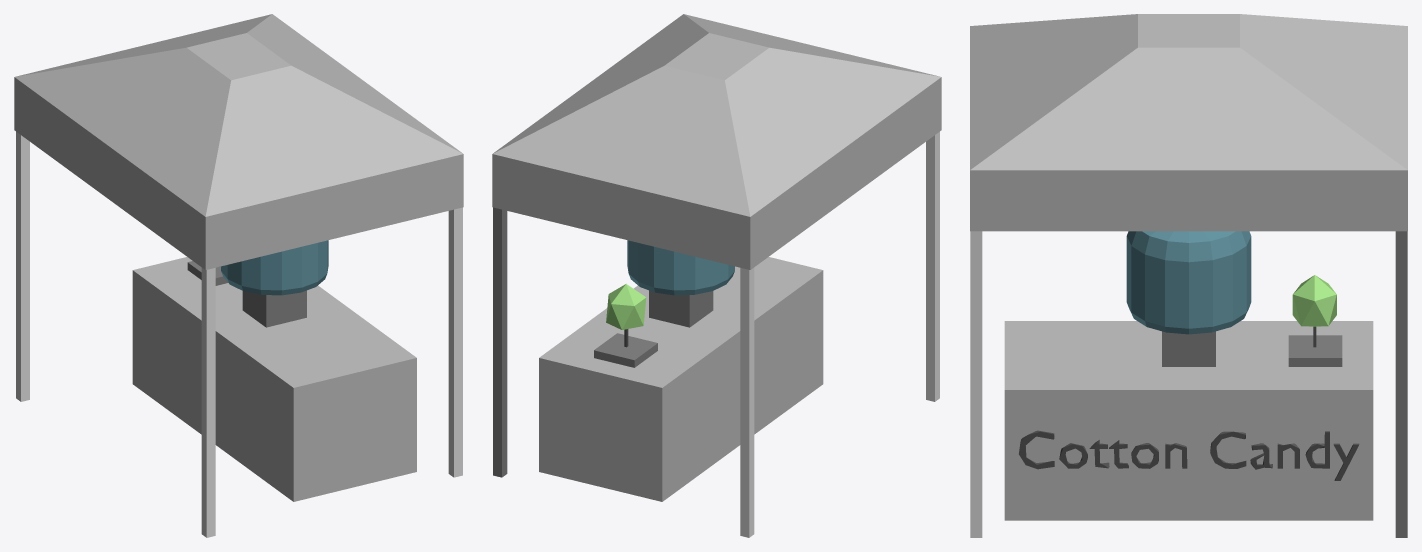
The model's file is CottonCandyStand.fbx.
3 renders of one model, left to right at view 1: azimuth 30°, elevation 25°; view 2: azimuth 150°, elevation 25°; view 3: azimuth 270°, elevation 25°, orthographic. The views are drawn at different scales.
Visible parts, largest first — view 1: Cube.007, Cube, Cylinder, Cube.004, Cube.003, Cube.006, Cube.001; view 2: Cube.007, Cube, Cylinder, Cube.006, Cube.005, Cube.004, Cube.001, Icosphere, Cube.002; view 3: Cube.007, Cube, Cylinder, Cube.003, Cube.005, Icosphere, Cube.001, Cube.002.
Part boxes in pixels (left/top/right/bottom): Cube.007: left=14, top=14, right=463, bottom=269; Cube: left=132, top=257, right=416, bottom=501; Cylinder: left=221, top=240, right=328, bottom=295; Cube.004: left=201, top=267, right=215, bottom=537; Cube.003: left=448, top=207, right=462, bottom=477; Cube.006: left=16, top=131, right=29, bottom=401; Cube.001: left=242, top=290, right=306, bottom=327; Cube.007: left=492, top=14, right=941, bottom=269; Cube: left=539, top=257, right=823, bottom=501; Cylinder: left=627, top=240, right=734, bottom=295; Cube.006: left=740, top=267, right=754, bottom=537; Cube.005: left=493, top=207, right=507, bottom=477; Cube.004: left=926, top=131, right=939, bottom=401; Cube.001: left=649, top=290, right=713, bottom=327; Icosphere: left=606, top=284, right=646, bottom=347; Cube.002: left=594, top=333, right=657, bottom=367; Cube.007: left=970, top=14, right=1407, bottom=231; Cube: left=1004, top=321, right=1373, bottom=520; Cylinder: left=1126, top=231, right=1251, bottom=334; Cube.003: left=970, top=231, right=982, bottom=537; Cube.005: left=1395, top=231, right=1407, bottom=537; Icosphere: left=1292, top=275, right=1336, bottom=347; Cube.001: left=1162, top=331, right=1215, bottom=366; Cube.002: left=1288, top=335, right=1342, bottom=366.
Size of the model in its own units: 168 by 237 by 216.
